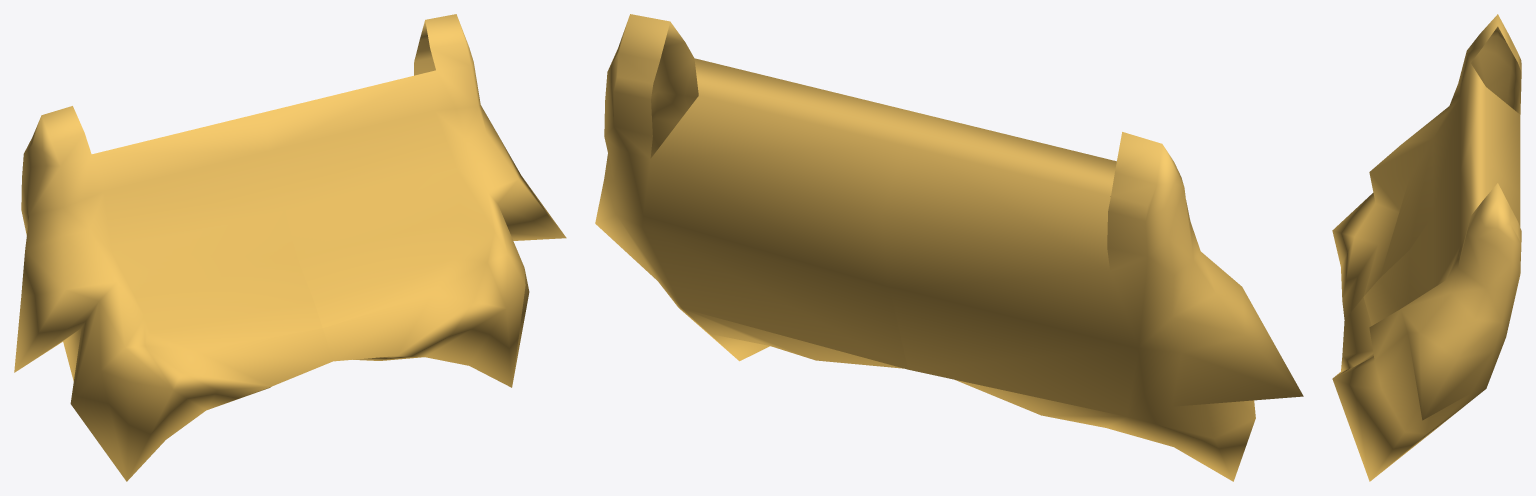
File: Beard_Yellow_11.fbx
The picture shows the model from 3 angles, left to right: view 1: azimuth 30°, elevation 25°; view 2: azimuth 150°, elevation 25°; view 3: azimuth 270°, elevation 25°; orthographic projection. The views are drawn at different scales.
Visible parts, largest first — view 1: Beard_Yellow_11; view 2: Beard_Yellow_11; view 3: Beard_Yellow_11.
Part boxes in pixels (<box>): Beard_Yellow_11: <box>14,14,566,481</box>; Beard_Yellow_11: <box>595,14,1303,481</box>; Beard_Yellow_11: <box>1332,14,1521,481</box>.
Bounding box in the file's own units: 66 × 36.6 × 21.51.
